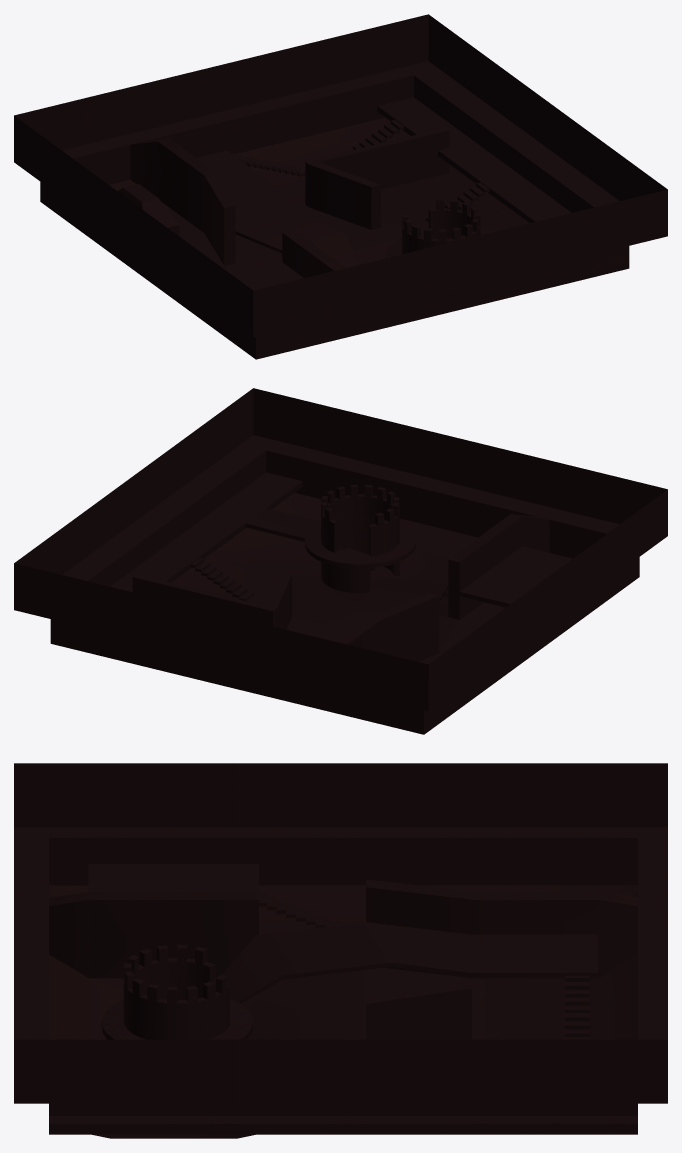
The model's file is col-wld.glb.
3 renders of one model, top to bottom at view 1: azimuth 30°, elevation 25°; view 2: azimuth 150°, elevation 25°; view 3: azimuth 270°, elevation 25°, orthographic. The views are drawn at different scales.
Parts seen in each view (by area): view 1: Cube.004; view 2: Cube.004; view 3: Cube.004.
Part boxes in pixels (x1=…): Cube.004: x1=14, y1=14, x2=667, y2=359; Cube.004: x1=14, y1=388, x2=667, y2=734; Cube.004: x1=14, y1=763, x2=667, y2=1138.
Bounding box in the file's own units: 34.36 × 8.6 × 34.36.
1 material, 1 textured.
